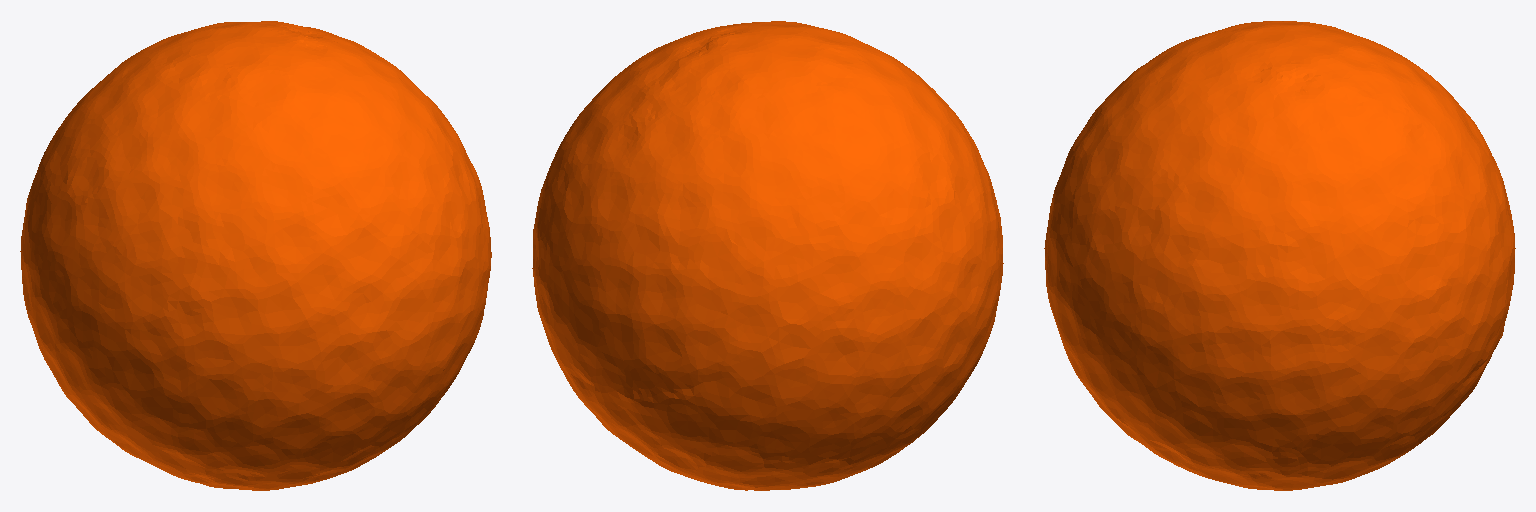
URDF robot description (058_golf_ball):
<?xml version="1.0" ?>
<robot name="058_golf_ball">
   <material name="obj_color">
      <color rgba="1.0 0.423529411765 0.0392156862745 1.0"/>
   </material>
   <link name="top">
      <inertial>
         <origin rpy="1.426056459973385e-05 1.427102622104974e-05 1.43113993276221e-05" xyz="-2.324596140197395e-05 -0.0003111071952228935 -0.002310030246592178"/>
         <mass value="0.07894892817124567"/>
         <inertia ixx="1.426078566765675e-05" ixy="-1.381078627979917e-09" ixz="1.873593429575821e-09" iyy="1.427117510171657e-05" iyz="-3.42447411997023e-09" izz="1.431102937903238e-05"/>
      </inertial>
      <visual>
         <origin rpy="0 0 0" xyz="0 0 0"/>
         <geometry>
            <mesh filename="top_watertight_tiny.stl" scale="1 1 1"/>
         </geometry>
         <material name="obj_color"/>
      </visual>
      <collision>
         <origin rpy="0 0 0" xyz="0 0 0"/>
         <geometry>
            <mesh filename="top_watertight_tiny.obj" scale="1 1 1"/>
         </geometry>
      </collision>
   </link>
   <link name="bottom">
      <inertial>
         <origin rpy="1.633333333199431e-08 1.633333333199431e-08 1.633333333362855e-08" xyz="0.3464080000000008 0.3464080000000008 0.3464080000000008"/>
         <mass value="0.0009800000000000017"/>
         <inertia ixx="1.633333333253906e-08" ixy="5.447480642029219e-19" ixz="5.447480642029219e-19" iyy="1.633333333253906e-08" iyz="5.447480642029219e-19" izz="1.633333333253906e-08"/>
      </inertial>
      <visual>
         <origin rpy="0 0 0" xyz="0 0 0"/>
         <geometry>
            <mesh filename="bottom_watertight_tiny.stl" scale="1 1 1"/>
         </geometry>
         <material name="obj_color"/>
      </visual>
   </link>
   <link name="world"/>
   <joint name="world_to_base" type="fixed">
      <origin xyz="0 0 0"/>
      <axis xyz="0 0 0"/>
      <parent link="world"/>
      <child link="bottom"/>
   </joint>
   <joint name="rotation" type="revolute">
      <origin xyz="0 0 0"/>
      <axis xyz="0 0 -1"/>
      <parent link="bottom"/>
      <child link="top"/>
      <dynamics damping="1.0" friction="1.0"/>
      <limit effort="0.1" velocity="0.1" lower="0" upper="0.001"/>
   </joint>
</robot>

--- Facts derived from the render (not from the file) ---
Views: 3 orthographic renders of the robot side by side, from view 1: azimuth 30°, elevation 25°; view 2: azimuth 150°, elevation 25°; view 3: azimuth 270°, elevation 25°.
Model 058_golf_ball with 3 links and 2 joints (1 revolute, 1 fixed), rooted at world, posed every joint at zero.
Links seen in each view (by area): view 1: top; view 2: top; view 3: top.
Link boxes in pixels (box(x1,y1,x2,y2)): top: box(20, 21, 491, 490); top: box(532, 21, 1003, 490); top: box(1044, 21, 1515, 490).
Size in the robot's own frame: 0.0427 by 0.0427 by 0.0424 metres.
Meshes: 2 distinct files referenced, 1 mesh visuals loaded (1 binary STL); not drawn: 1 (reference not matched to a file when rendering).
